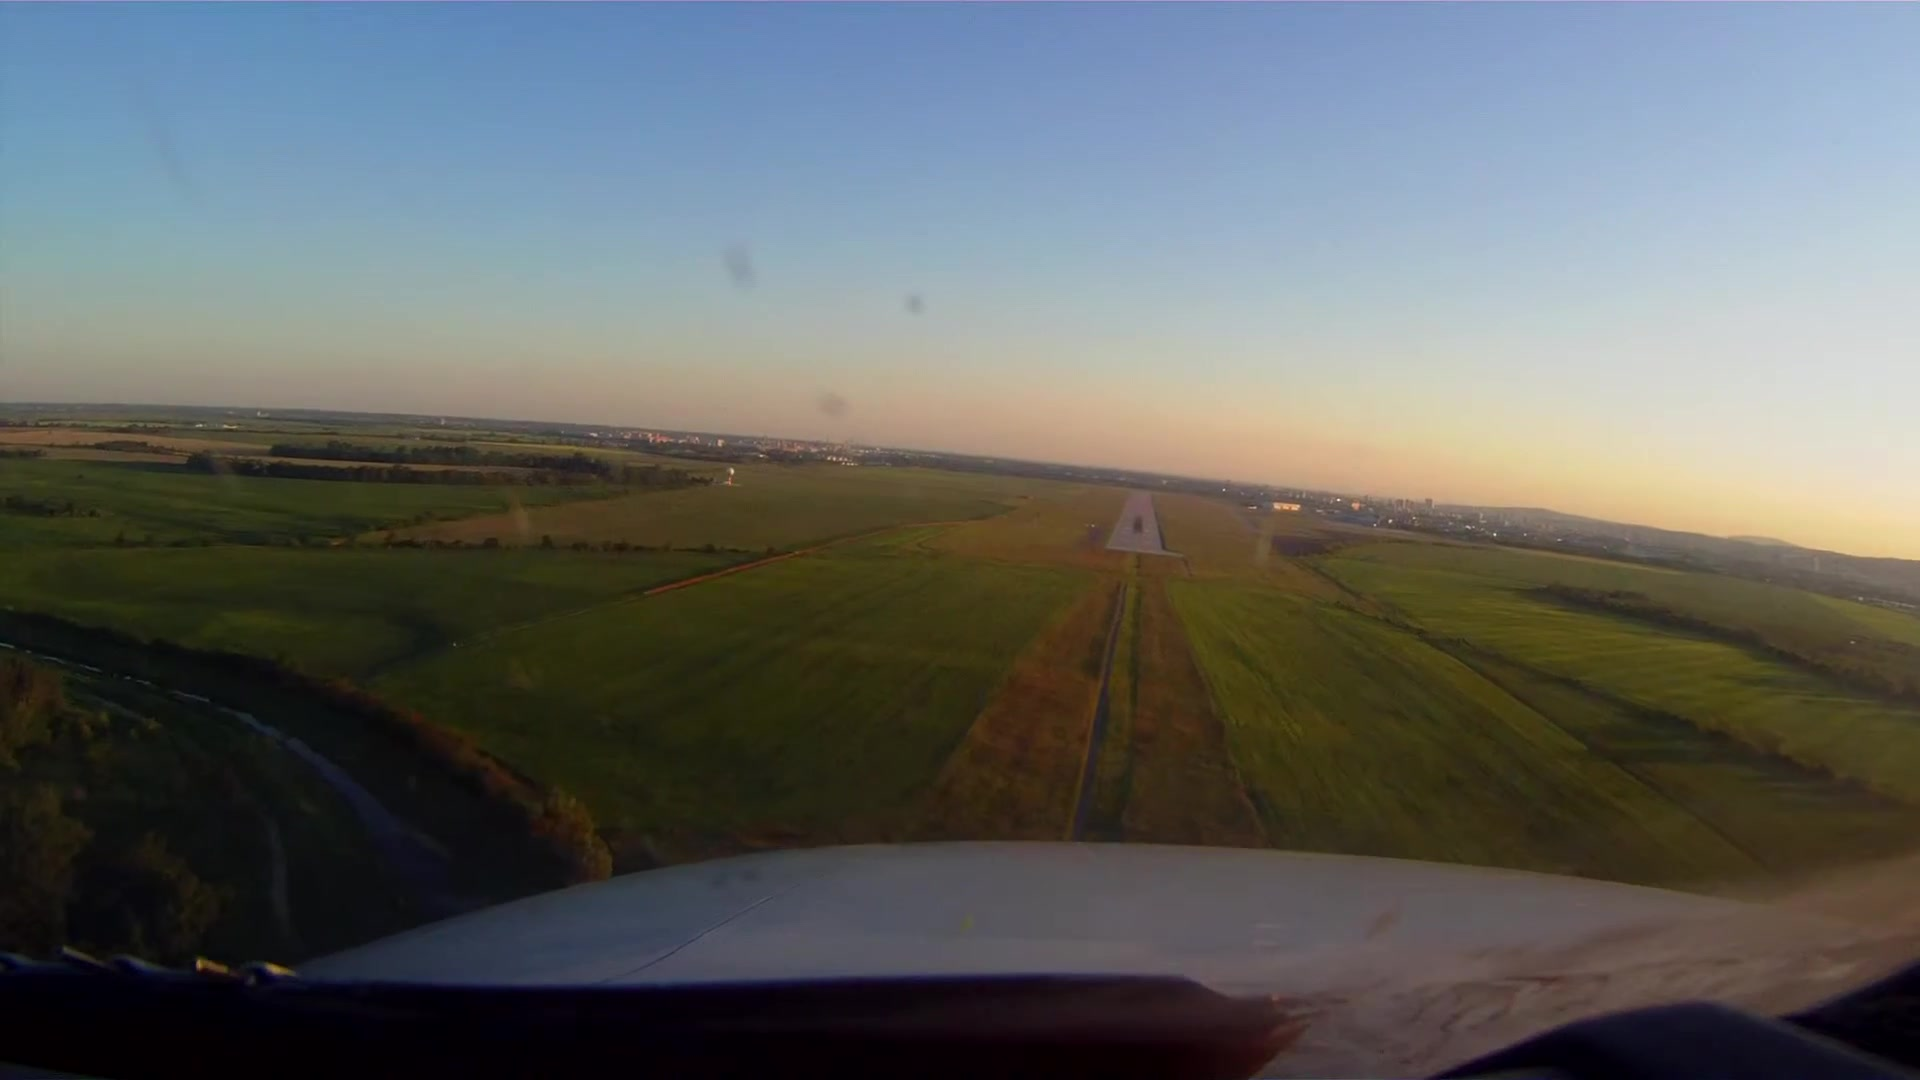runway: (1108, 488, 1166, 556)
